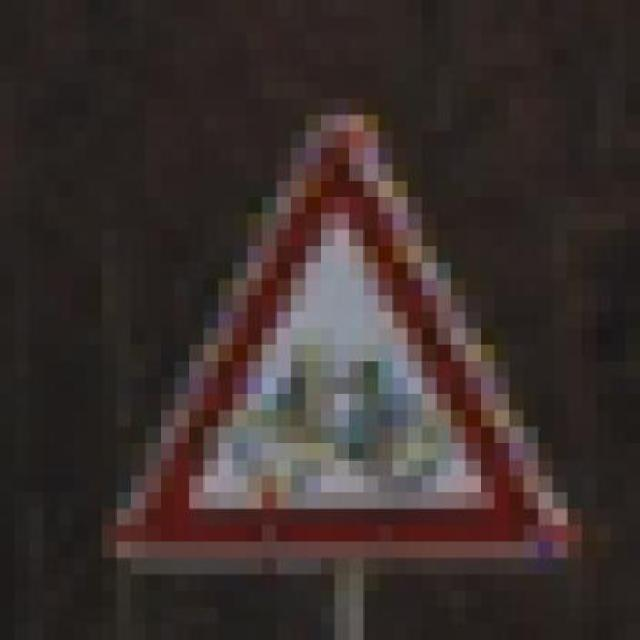CYCLE ROUTE AHEAD WARNING: (73, 66, 582, 574)
